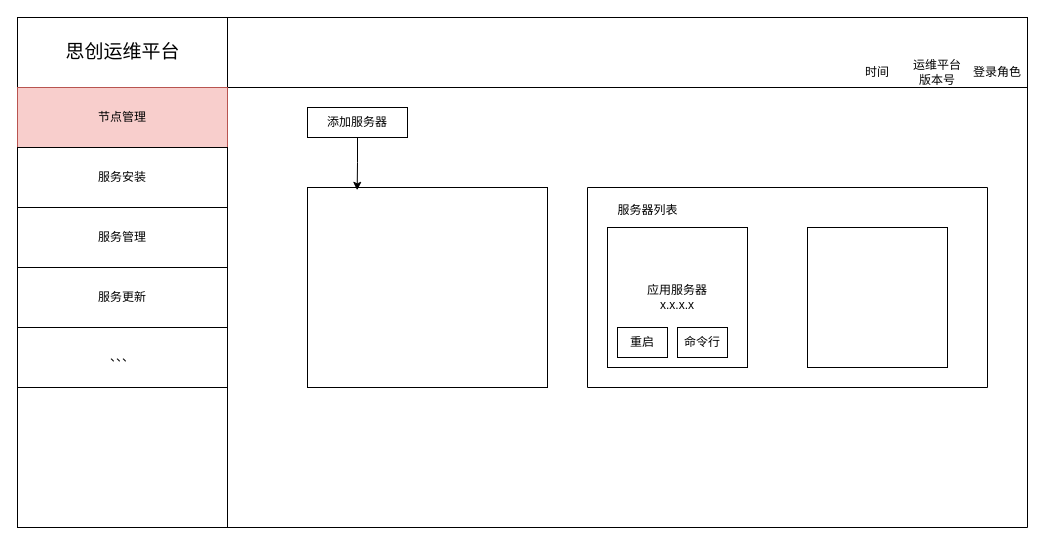
This 1045x545 diagram has some shape labels left out. The centre of each missing label's shape, as x and y in pixels:
"数据库服务器 x.x.x.x" belongs at point 877,297.
"请输入服务器IP|账号|密码（以|分隔）" belongs at point 427,287.
